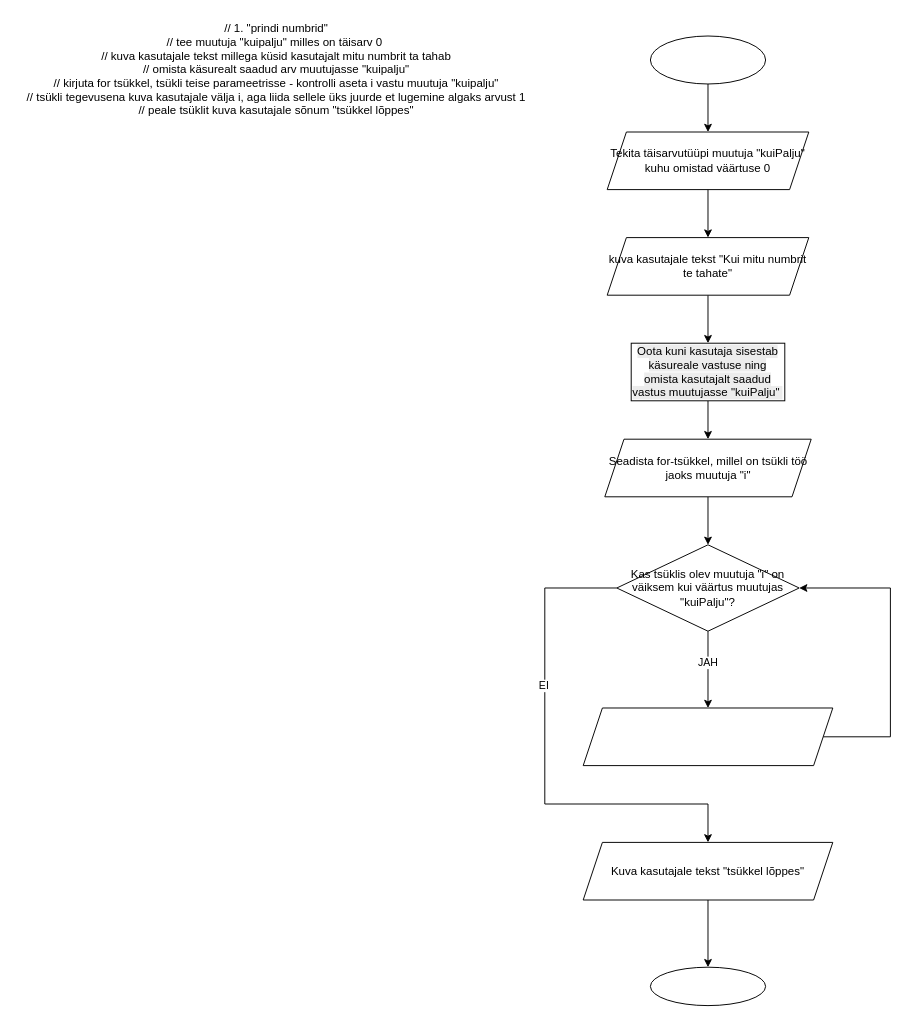
Some shapes in this 915 by 1022 pixel diagram are drawn without their labels. The centre of each missing label's shape, as x and y in pixels:
Algus: point (707, 59)
Kuva kasutajale välja muutuja "i" väärtus kujul millele liidad ühe juurde: i+1: point (707, 736)
Lõpp: point (707, 986)
